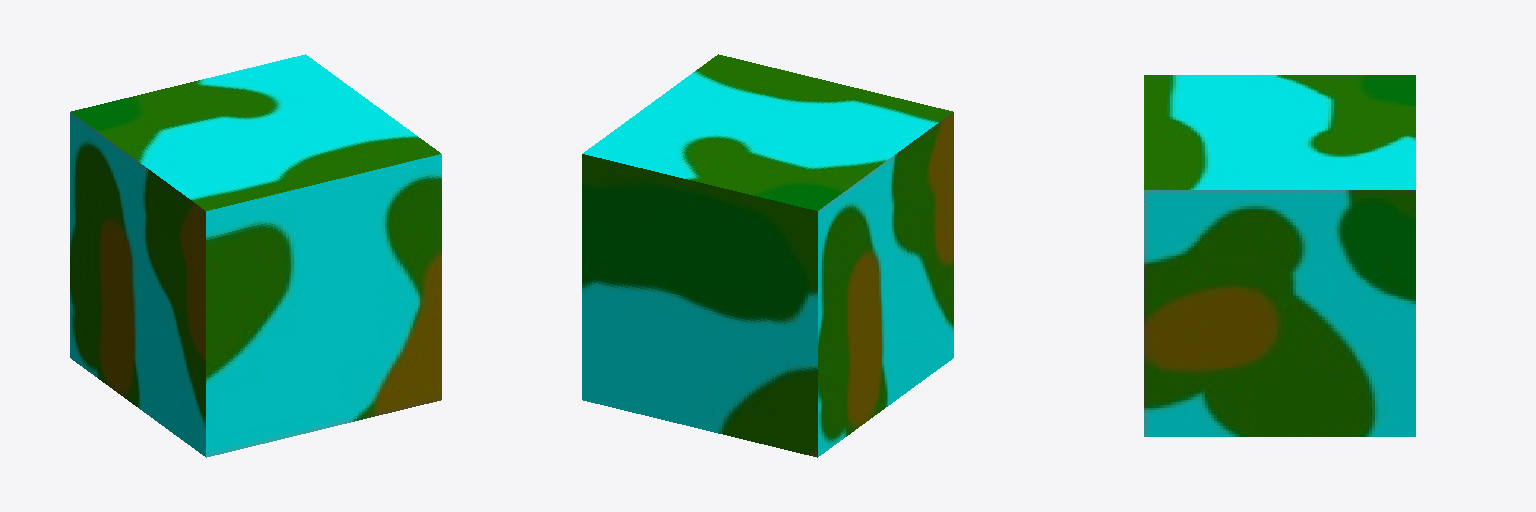
The picture shows the model from 3 angles: view 1: azimuth 30°, elevation 25°; view 2: azimuth 150°, elevation 25°; view 3: azimuth 270°, elevation 25°; orthographic projection.
Parts seen in each view (by area): view 1: Box001; view 2: Box001; view 3: Box001.
Boxes of the visible parts, <box> form: Box001: <box>70,54,441,457</box>; Box001: <box>582,54,953,457</box>; Box001: <box>1144,75,1415,436</box>.
Size of the model in its own units: 1 by 1 by 1.
Materials: 1 (1 with a texture image).